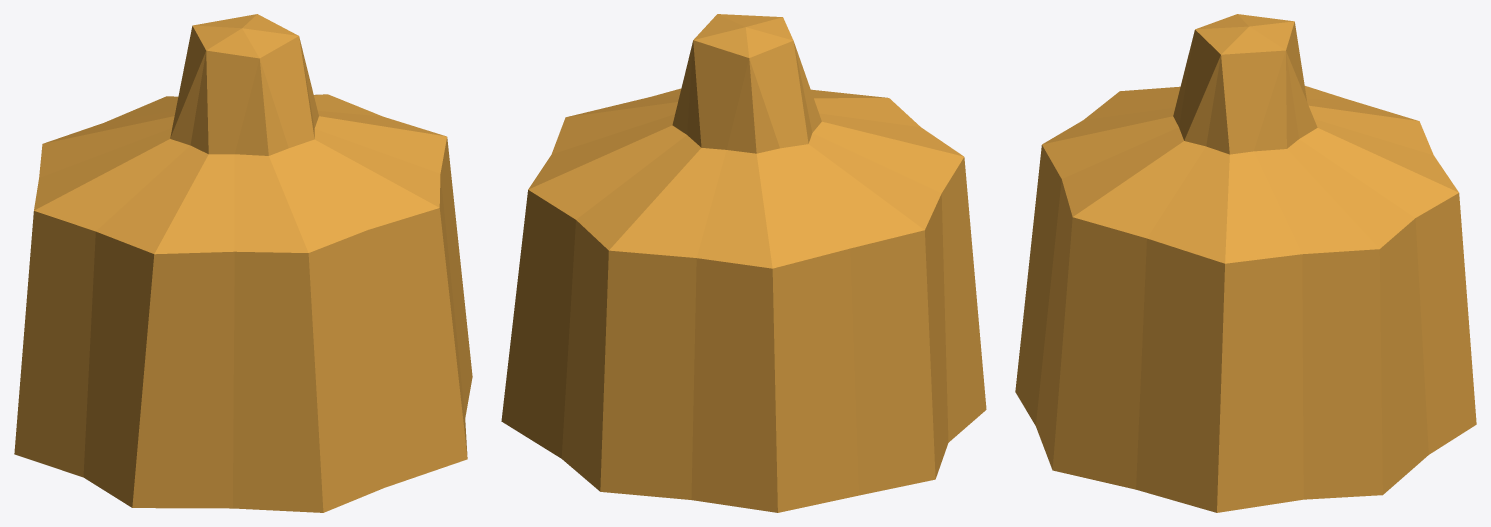
File: candy-pumpkin.fbx
3 views of the same model, side by side, from view 1: azimuth 30°, elevation 25°; view 2: azimuth 150°, elevation 25°; view 3: azimuth 270°, elevation 25° (orthographic).
Visible parts, largest first — view 1: candy-pumpkin; view 2: candy-pumpkin; view 3: candy-pumpkin.
Part boxes in pixels (x1,y1,x2,y2): candy-pumpkin: (14,14,472,512); candy-pumpkin: (501,14,986,512); candy-pumpkin: (1015,14,1476,512).
Size of the model in its own units: 0.0372 by 0.033 by 0.0356.
